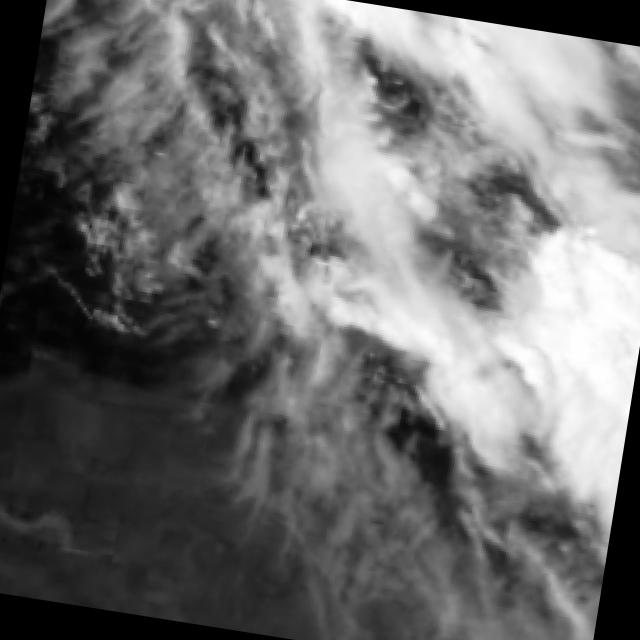CB: (547, 242, 640, 469)
